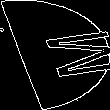M_W: (7, 27, 103, 83)
